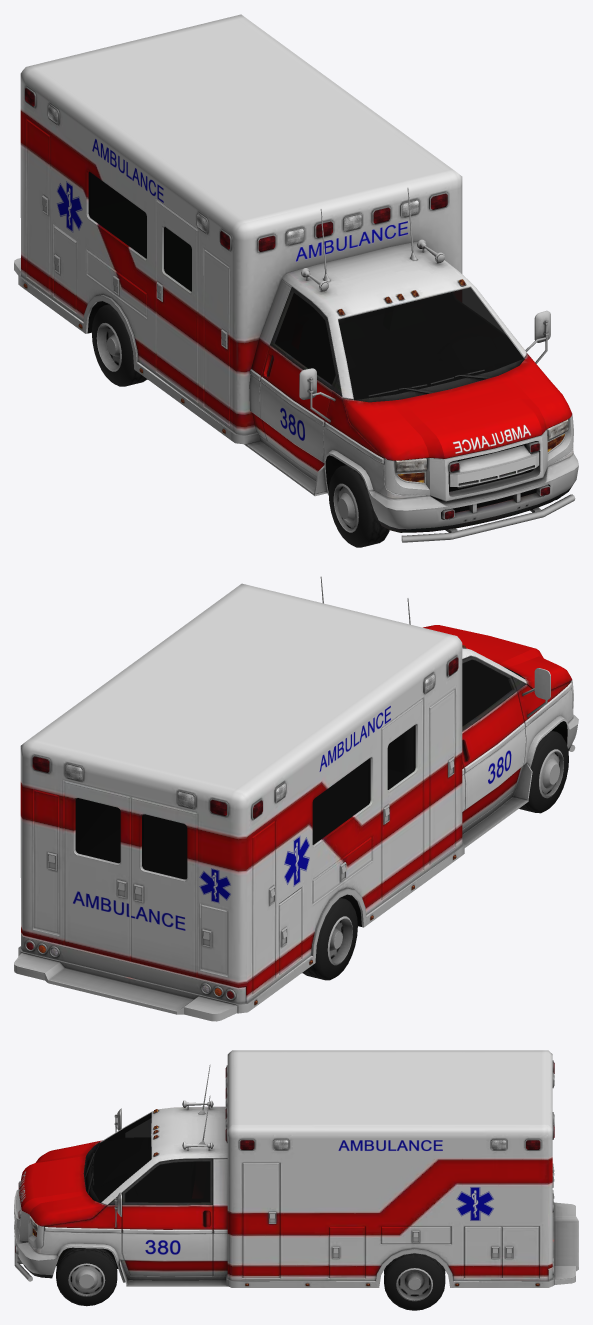
Rendered from veh-ambulance.glb.
3 renders of one model, top to bottom at view 1: azimuth 30°, elevation 25°; view 2: azimuth 150°, elevation 25°; view 3: azimuth 270°, elevation 25°, orthographic. The views are drawn at different scales.
Visible parts, largest first — view 1: ambulance_ambulance_0, ambulance_glass_tex_0, ambulance_optics_tex_0, ambulance_decals_tex_0; view 2: ambulance_ambulance_0, ambulance_glass_tex_0, ambulance_decals_tex_0, ambulance_optics_tex_0; view 3: ambulance_ambulance_0, ambulance_glass_tex_0, ambulance_decals_tex_0, ambulance_optics_tex_0.
Boxes of the visible parts, x1,y1,x2,y2 form: ambulance_ambulance_0: (14, 14, 578, 547); ambulance_glass_tex_0: (88, 171, 523, 400); ambulance_optics_tex_0: (23, 88, 568, 519); ambulance_decals_tex_0: (57, 138, 530, 453); ambulance_ambulance_0: (14, 576, 578, 1021); ambulance_glass_tex_0: (75, 661, 511, 879); ambulance_decals_tex_0: (72, 705, 511, 930); ambulance_optics_tex_0: (26, 645, 465, 1004); ambulance_ambulance_0: (14, 1050, 578, 1310); ambulance_glass_tex_0: (91, 1112, 209, 1202); ambulance_decals_tex_0: (19, 1140, 493, 1254); ambulance_optics_tex_0: (15, 1062, 554, 1285).
Bounding box in the file's own units: 2.59 × 2.57 × 6.9.
4 materials, 4 textured.
